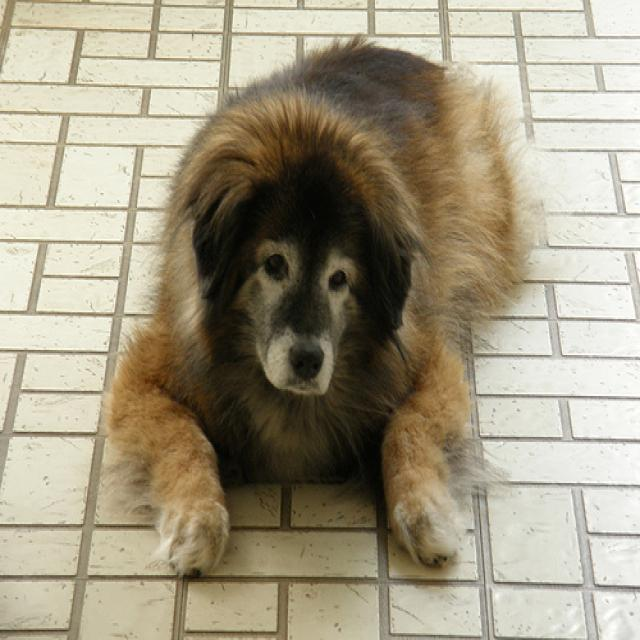dog: (190, 99, 410, 394)
